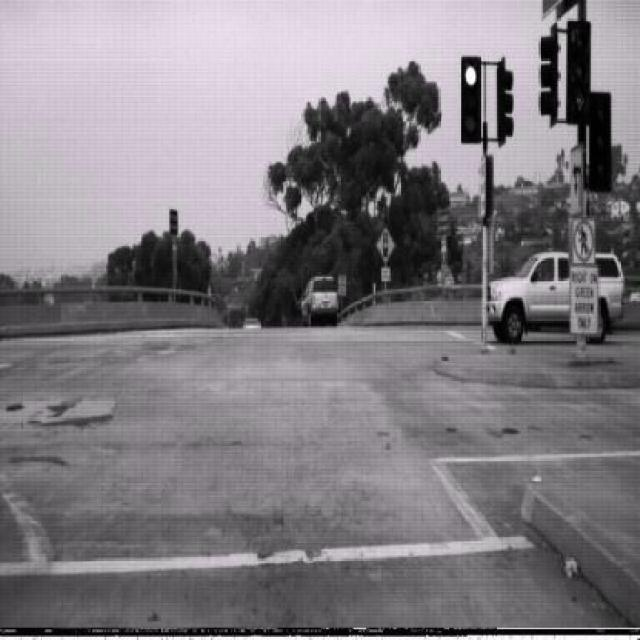signalAhead: (376, 225, 396, 266)
